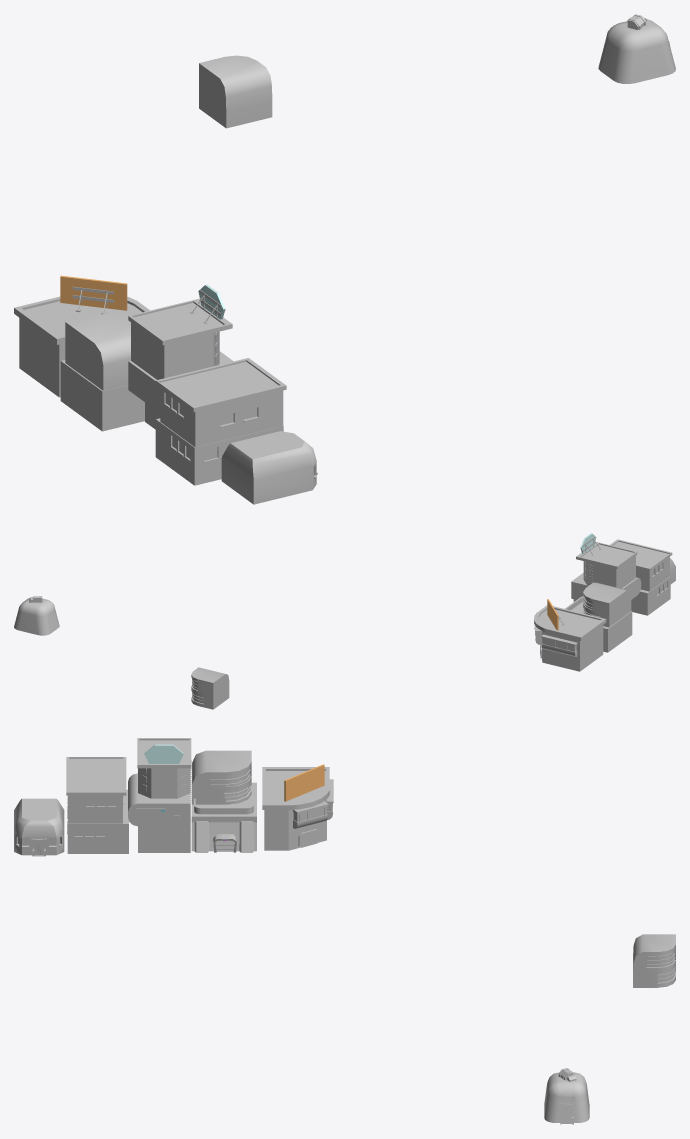
Rendered from Plaza_07_Buildings.fbx.
3 renders of one model, top to bottom at view 1: azimuth 30°, elevation 25°; view 2: azimuth 150°, elevation 25°; view 3: azimuth 270°, elevation 25°, orthographic. The views are drawn at different scales.
Visible parts, largest first — view 1: polySurface165; view 2: polySurface165; view 3: polySurface165.
Part boxes in pixels (box(x1,y1,x2,y2)): polySurface165: box(14, 14, 675, 504); polySurface165: box(14, 533, 675, 709); polySurface165: box(14, 738, 675, 1124).
Bounding box in the file's own units: 248 × 39.56 × 224.
